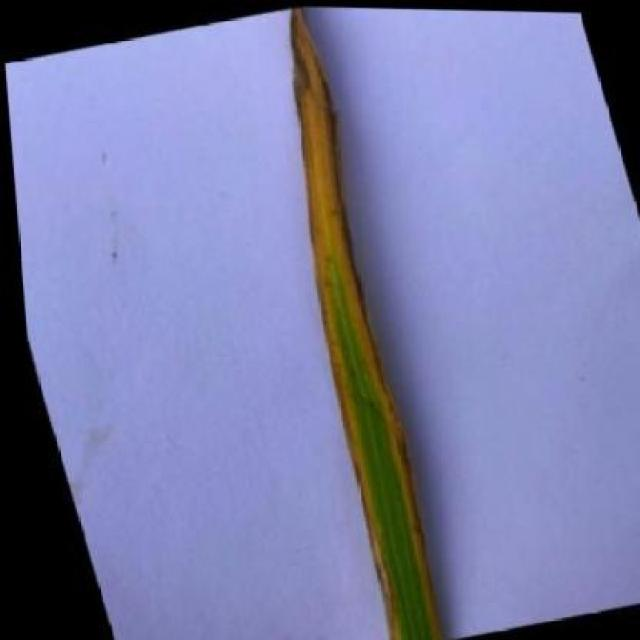Rice False Smut: (206, 3, 479, 640)
